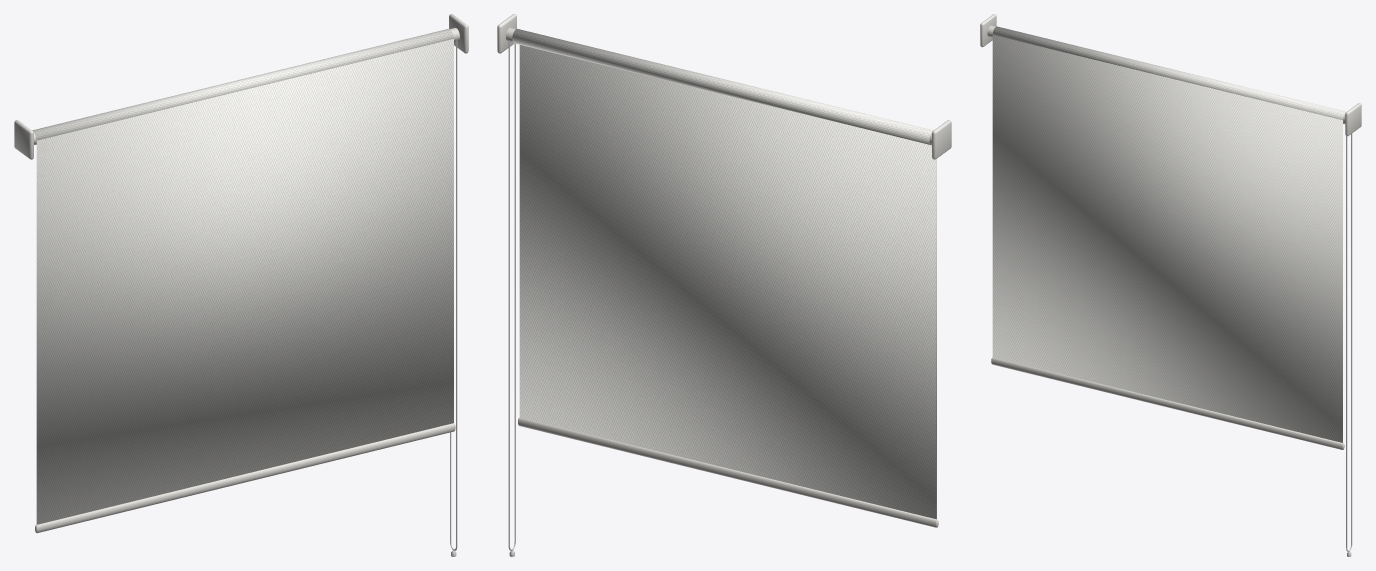
File: estor_enrollable_140_c75.glb
The picture shows the model from 3 angles, left to right: view 1: azimuth 30°, elevation 25°; view 2: azimuth 150°, elevation 25°; view 3: azimuth 330°, elevation 25°; orthographic projection. The views are drawn at different scales.
Visible parts, largest first — view 1: estor_enrollable_140_c75; view 2: estor_enrollable_140_c75; view 3: estor_enrollable_140_c75.
Part boxes in pixels (box(x1,y1,x2,y2)): estor_enrollable_140_c75: box(14, 14, 468, 556); estor_enrollable_140_c75: box(497, 14, 951, 556); estor_enrollable_140_c75: box(980, 14, 1361, 556).
Bounding box in the file's own units: 1.2 × 1.4 × 0.08.
Materials: 4 (1 with a texture image).
